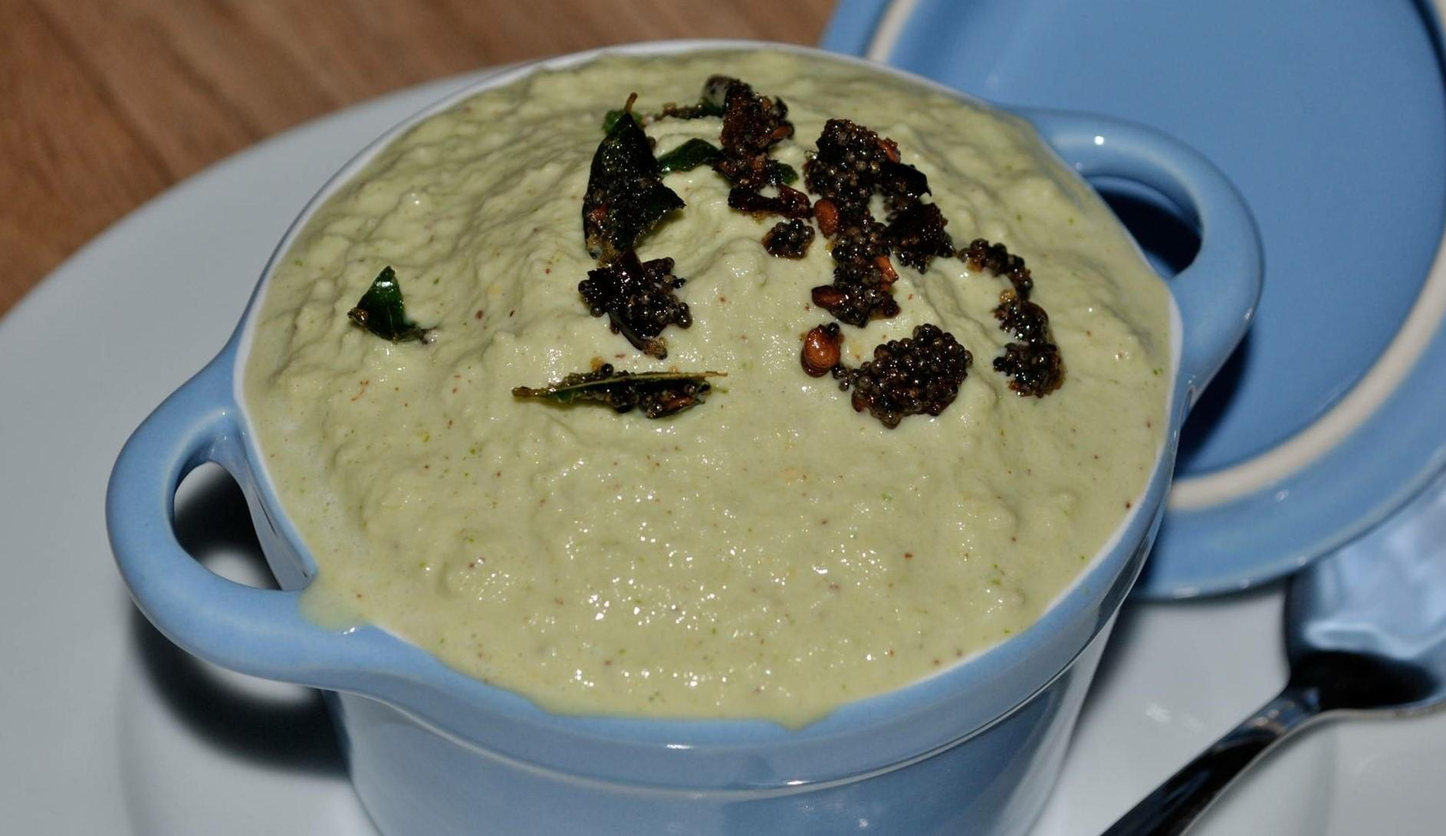CoconutChutney: (267, 39, 1171, 706)
